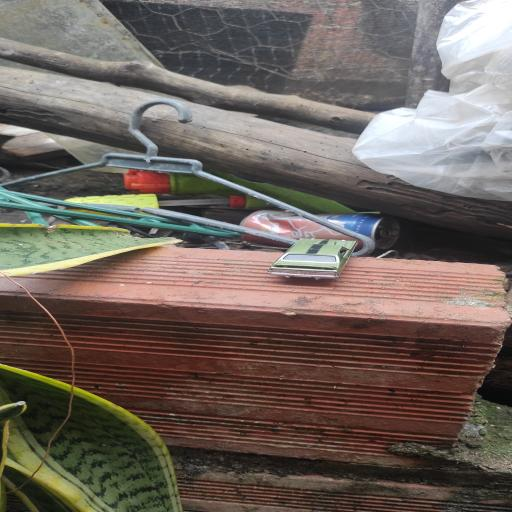Carrito: (268, 238, 356, 279)
